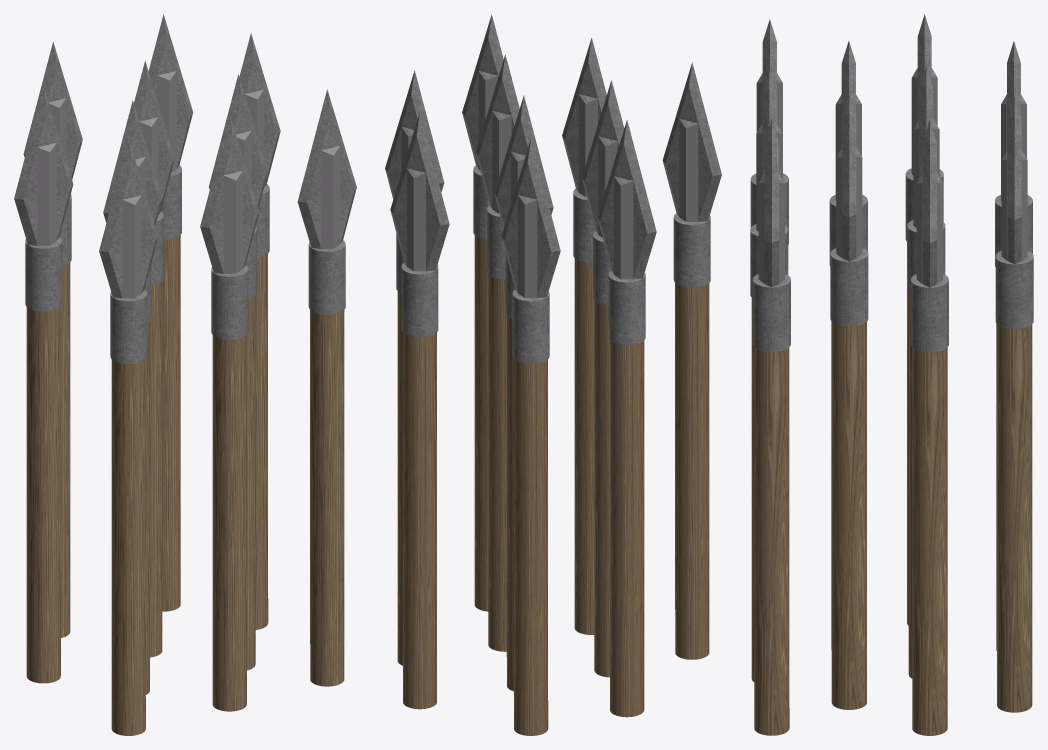
The model's file is spears.obj.
3 views of the same model, side by side, from view 1: azimuth 30°, elevation 25°; view 2: azimuth 150°, elevation 25°; view 3: azimuth 270°, elevation 25° (orthographic). The views are drawn at different scales.
Parts seen in each view (by area): view 1: Spear.001_Spear.004; view 2: Spear.001_Spear.004; view 3: Spear.001_Spear.004.
Part boxes in pixels (x1,y1,x2,y2): Spear.001_Spear.004: (14, 14, 356, 735); Spear.001_Spear.004: (385, 14, 721, 735); Spear.001_Spear.004: (750, 14, 1033, 735).
Size of the model in its own units: 4.54 by 9.51 by 4.01.
